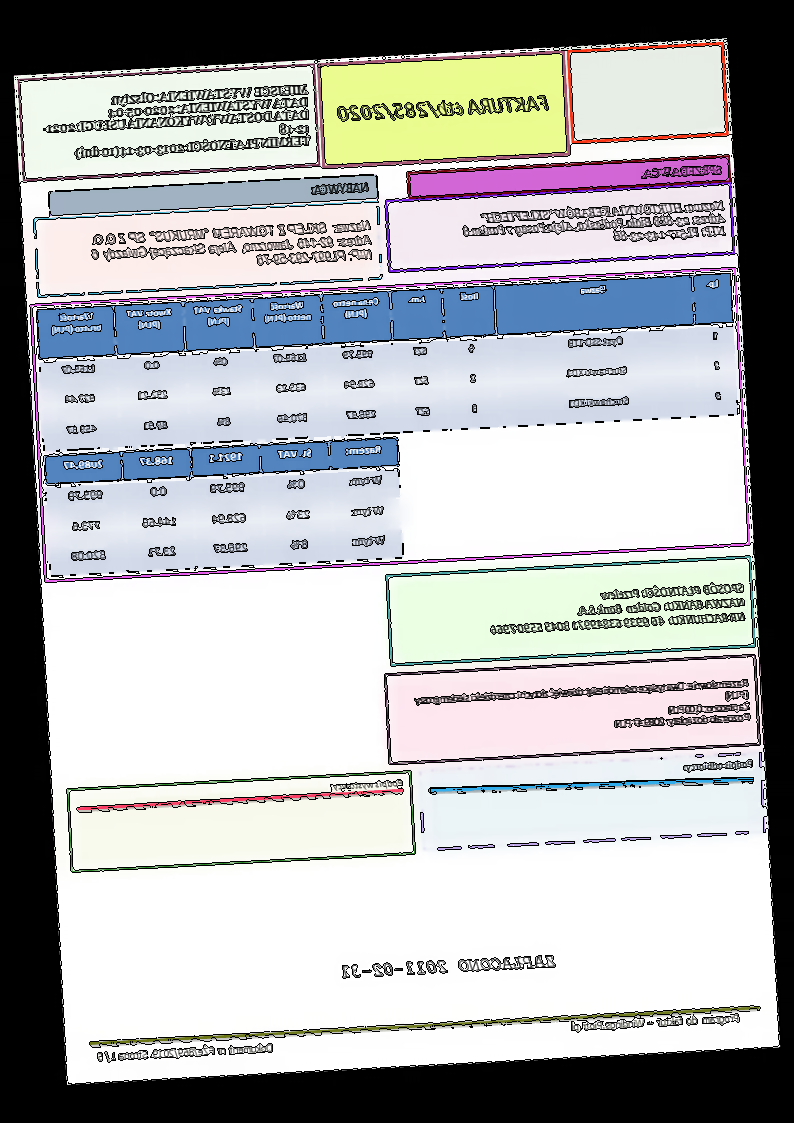Table: (37, 272, 740, 452), (43, 436, 406, 577)
TextBox: (412, 676, 753, 740), (40, 83, 312, 162), (89, 217, 374, 277), (487, 580, 747, 637), (462, 198, 728, 252), (336, 91, 551, 126), (339, 953, 557, 982), (96, 1040, 276, 1068), (570, 1012, 742, 1035), (639, 163, 725, 182), (679, 758, 757, 775), (310, 180, 371, 199), (329, 778, 405, 793)
